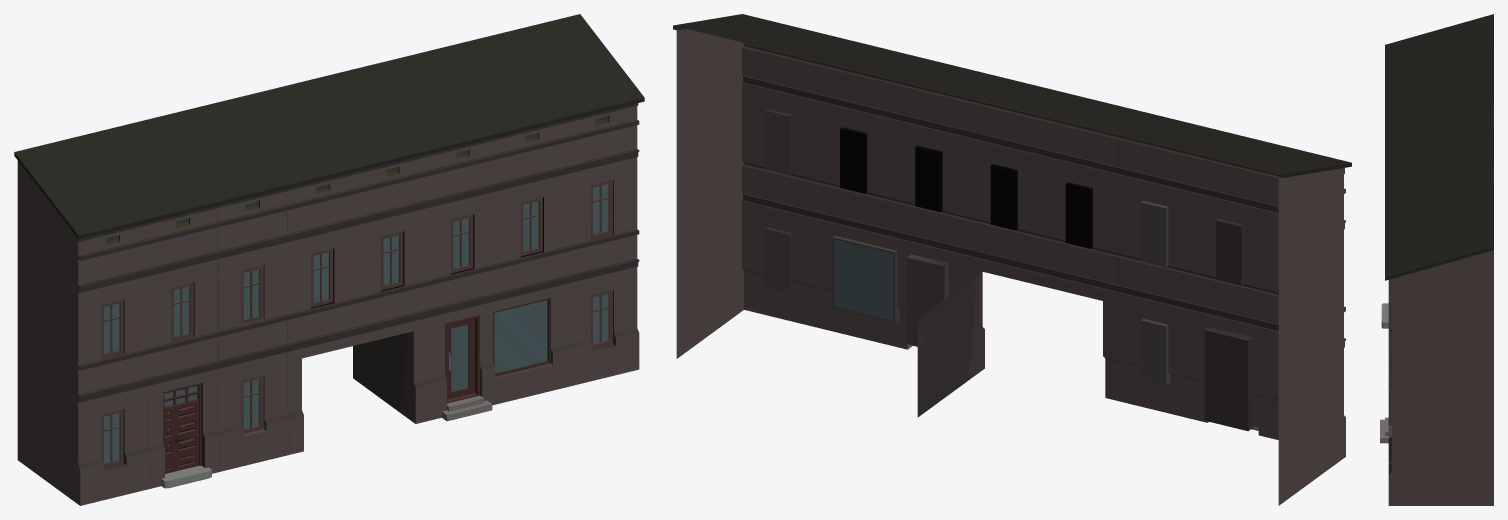
Rendered from kamienica3-tunnel.fbx.
3 renders of one model, left to right at view 1: azimuth 30°, elevation 25°; view 2: azimuth 150°, elevation 25°; view 3: azimuth 270°, elevation 25°, orthographic. The views are drawn at different scales.
Visible parts, largest first — view 1: kamienica3-abandoned-shop, kamienica3-abandoned-shop.001, kamienica3-abandoned-side-l, kamienica3-abandoned-side-r, kamienica3-abandoned-mid, kamienica3-abandoned-entry, k3-shop-decor1, k3-entry-decor1, k3-shop-decor1.001, k3-mid-decor3, k3-mid-decor1.002, k3-mid-decor1.001; view 2: kamienica3-abandoned-side-r, kamienica3-abandoned-shop, kamienica3-abandoned-shop.001, kamienica3-abandoned-side-l, kamienica3-abandoned-mid, kamienica3-abandoned-entry; view 3: kamienica3-abandoned-side-r, kamienica3-abandoned-shop, kamienica3-abandoned-shop.001, kamienica3-abandoned-entry, kamienica3-abandoned-side-l, kamienica3-abandoned-mid.
Part boxes in pixels (x1=…): kamienica3-abandoned-shop: x1=367, y1=32, x2=571, y2=421; kamienica3-abandoned-shop.001: x1=227, y1=66, x2=431, y2=454; kamienica3-abandoned-side-l: x1=14, y1=134, x2=151, y2=505; kamienica3-abandoned-side-r: x1=507, y1=14, x2=644, y2=386; kamienica3-abandoned-mid: x1=157, y1=100, x2=291, y2=471; kamienica3-abandoned-entry: x1=87, y1=117, x2=221, y2=488; k3-shop-decor1: x1=445, y1=133, x2=550, y2=403; k3-entry-decor1: x1=163, y1=218, x2=201, y2=473; k3-shop-decor1.001: x1=311, y1=167, x2=403, y2=307; k3-mid-decor3: x1=590, y1=115, x2=612, y2=348; k3-mid-decor1.002: x1=101, y1=235, x2=123, y2=467; k3-mid-decor1.001: x1=241, y1=201, x2=263, y2=433; kamienica3-abandoned-side-r: x1=673, y1=14, x2=820, y2=358; kamienica3-abandoned-shop: x1=752, y1=33, x2=970, y2=349; kamienica3-abandoned-shop.001: x1=903, y1=70, x2=1121, y2=417; kamienica3-abandoned-side-l: x1=1204, y1=143, x2=1351, y2=505; kamienica3-abandoned-mid: x1=1053, y1=106, x2=1196, y2=419; kamienica3-abandoned-entry: x1=1129, y1=125, x2=1272, y2=438; kamienica3-abandoned-side-r: x1=1385, y1=217, x2=1493, y2=505; kamienica3-abandoned-shop: x1=1380, y1=159, x2=1493, y2=445; kamienica3-abandoned-shop.001: x1=1385, y1=102, x2=1493, y2=189; kamienica3-abandoned-entry: x1=1381, y1=44, x2=1493, y2=328; kamienica3-abandoned-side-l: x1=1385, y1=14, x2=1493, y2=74; kamienica3-abandoned-mid: x1=1385, y1=73, x2=1493, y2=132.
Bounding box in the file's own units: 1620 × 845 × 335.
